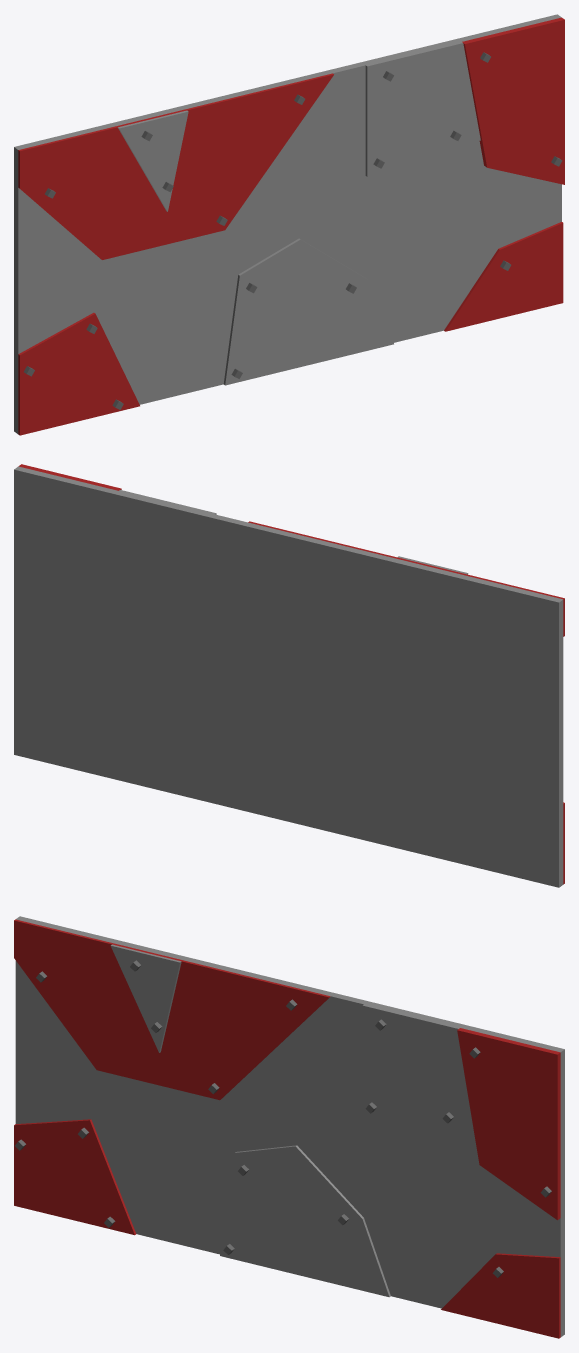
File: Prop_Building_Savage_Metal_Plated_Sheet_Wall_Tile_03.FBX
3 renders of one model, top to bottom at view 1: azimuth 30°, elevation 25°; view 2: azimuth 150°, elevation 25°; view 3: azimuth 330°, elevation 25°, orthographic.
Parts seen in each view (by area): view 1: Prop_Building_Savage_Metal_Plated_Sheet_Wall_Tile_03; view 2: Prop_Building_Savage_Metal_Plated_Sheet_Wall_Tile_03; view 3: Prop_Building_Savage_Metal_Plated_Sheet_Wall_Tile_03.
Boxes of the visible parts, box(x1,y1,x2,y2) form: Prop_Building_Savage_Metal_Plated_Sheet_Wall_Tile_03: box(14, 14, 564, 435); Prop_Building_Savage_Metal_Plated_Sheet_Wall_Tile_03: box(14, 464, 564, 887); Prop_Building_Savage_Metal_Plated_Sheet_Wall_Tile_03: box(14, 916, 564, 1338).
Bounding box in the file's own units: 6000 × 3000 × 199.
